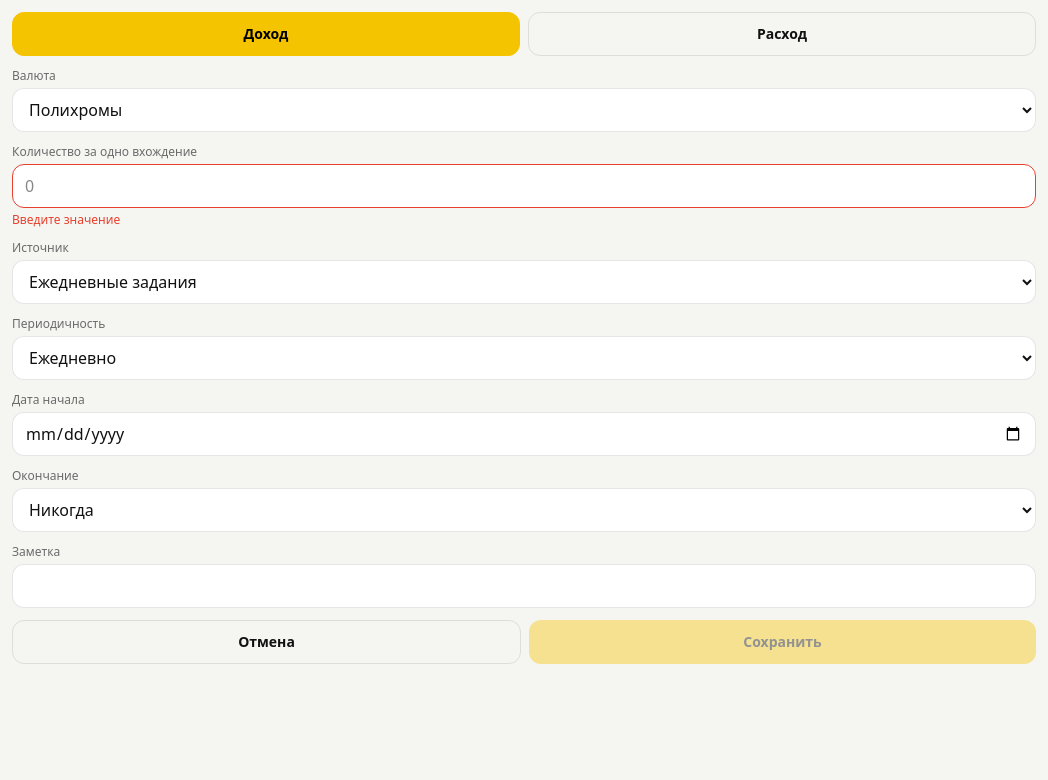
Test: SeriesForm › create mode › switches to EXPENSE and hides the source field
Click the radio button labelled "Расход".
click(782, 34)  # box left=528, top=12, right=1036, bottom=56
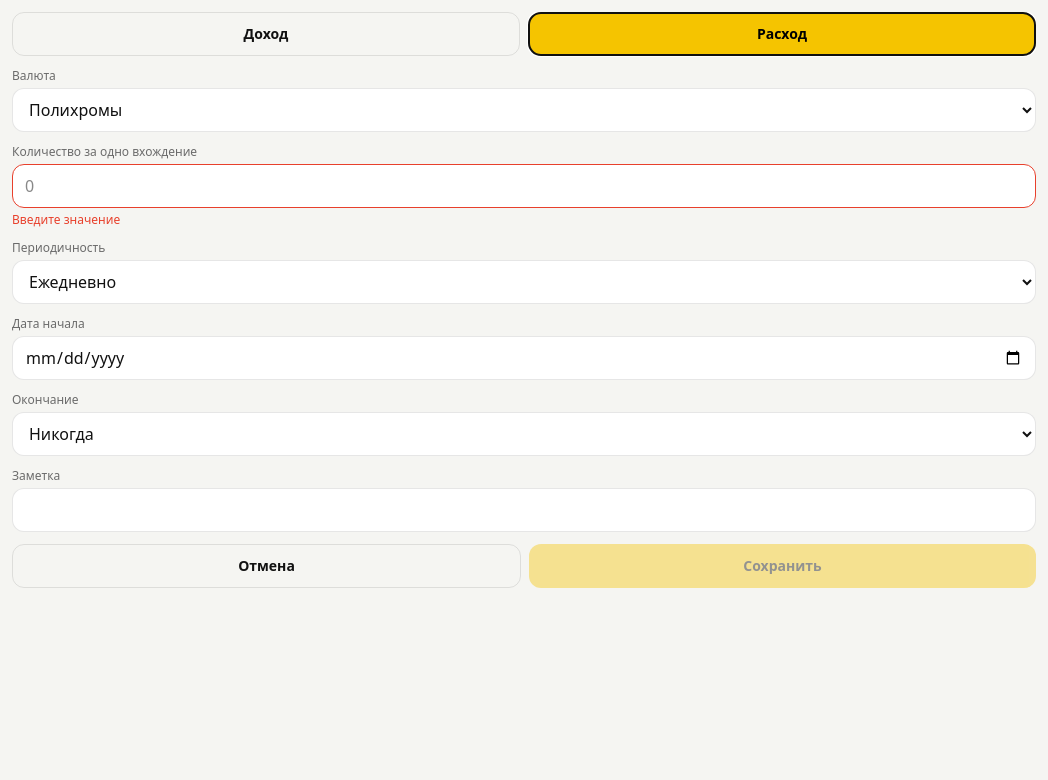
Expected: the label labelled "Источник" is gone
